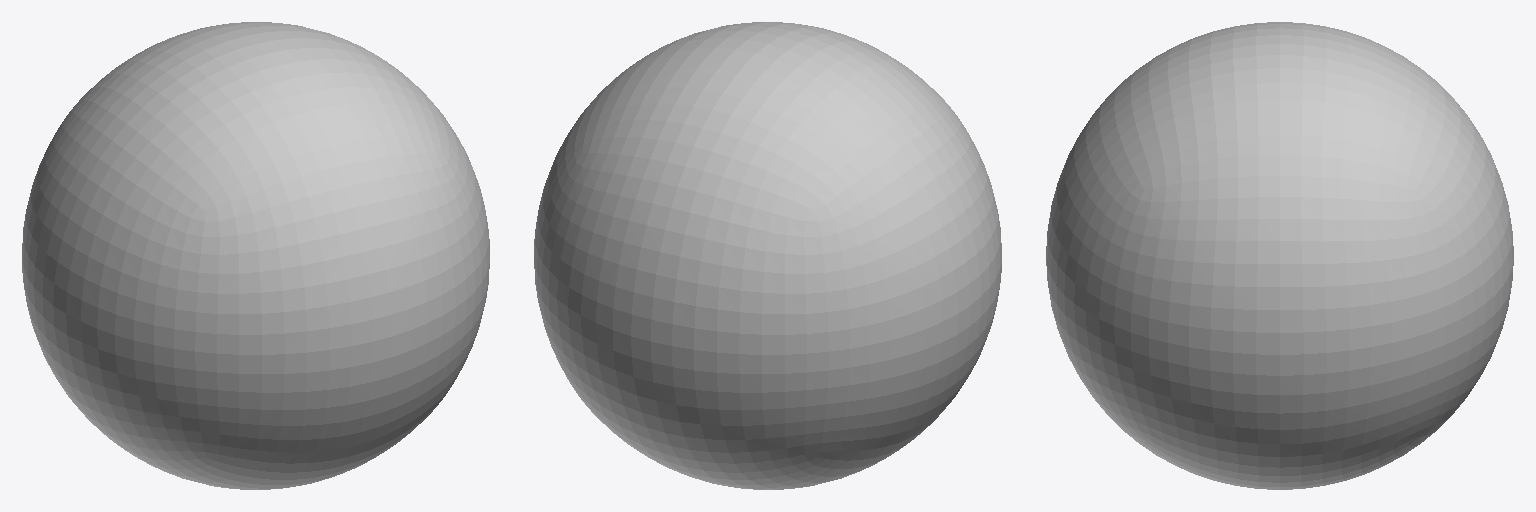
Rendered from ball.obj.
3 views of the same model, side by side, from view 1: azimuth 30°, elevation 25°; view 2: azimuth 150°, elevation 25°; view 3: azimuth 270°, elevation 25° (orthographic).
Parts seen in each view (by area): view 1: wooden_sphere; view 2: wooden_sphere; view 3: wooden_sphere.
Part boxes in pixels (x1,y1,x2,y2): wooden_sphere: (22,22,489,489); wooden_sphere: (534,22,1001,489); wooden_sphere: (1046,22,1513,489).
Bounding box in the file's own units: 6.97 × 6.97 × 6.97.